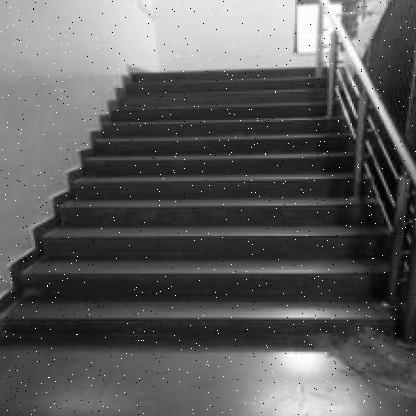stair_up: (22, 190, 327, 348)
